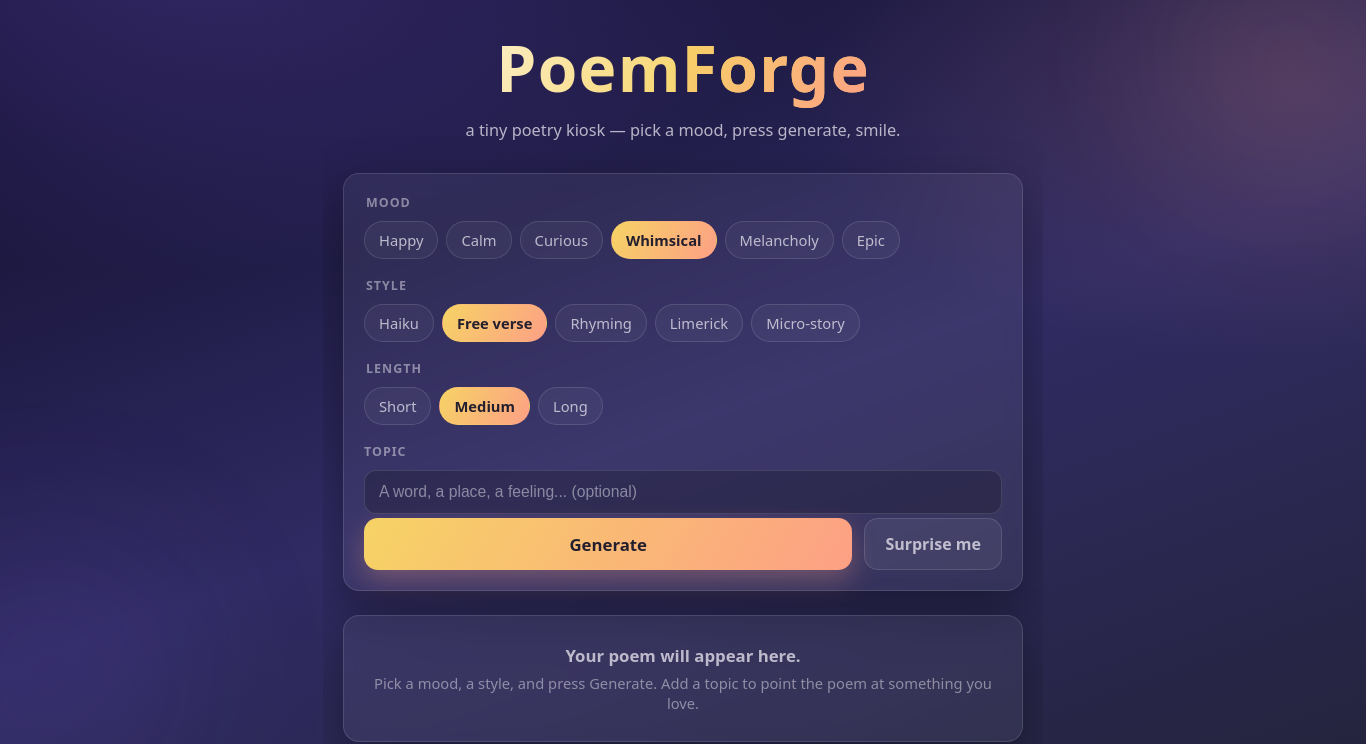
Test: App › generates a poem and shows the usedAi badge
Click the button "Generate": (608, 544) [364,518,852,570]
(page scrolled)
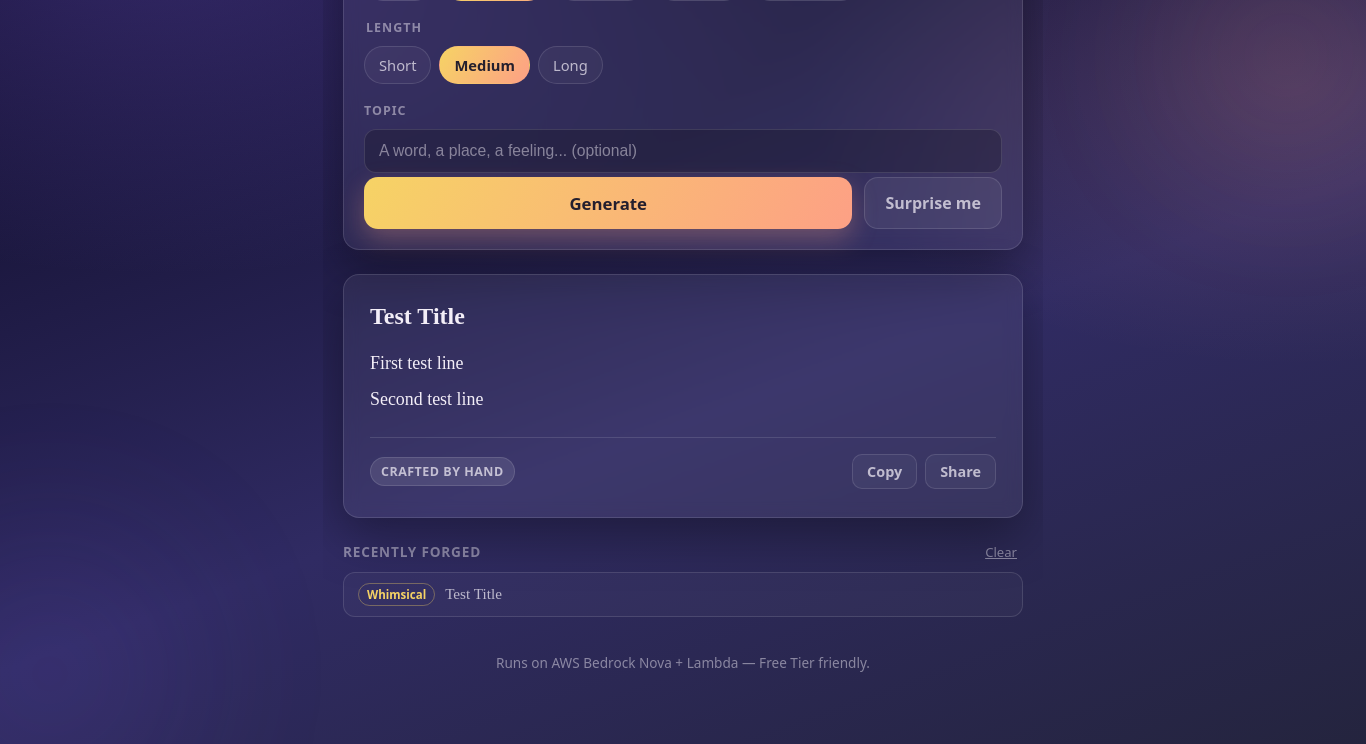
expect the heading "Test Title" is shown: met, box [370,303,465,329]
expect the text "First test line" is shown: met, box [370,353,464,373]
expect the text "Second test line" is shown: met, box [370,390,483,410]
